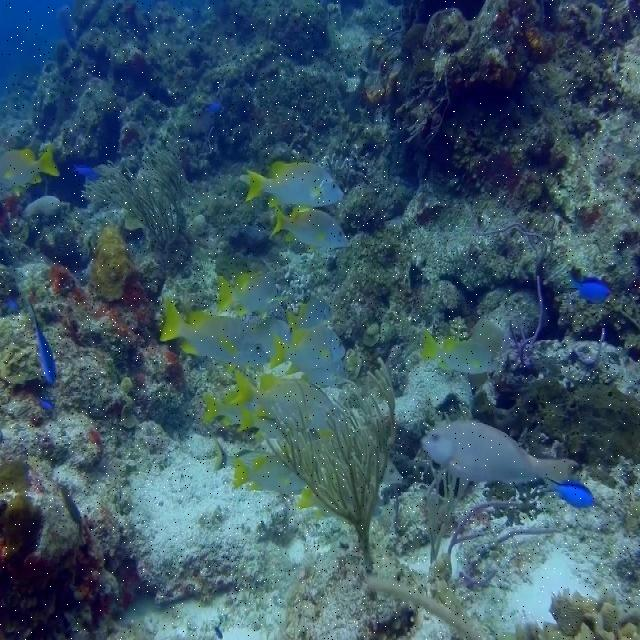aquatic plants: (366, 469, 560, 639), (264, 358, 399, 572), (81, 142, 186, 250)
fish: (420, 419, 580, 484), (160, 300, 268, 364), (245, 161, 344, 207), (271, 326, 346, 376), (423, 329, 498, 375), (272, 206, 348, 251), (232, 455, 305, 491), (216, 272, 276, 314), (0, 143, 60, 184), (27, 298, 55, 384), (288, 298, 333, 331), (543, 480, 594, 506), (567, 272, 610, 299)
